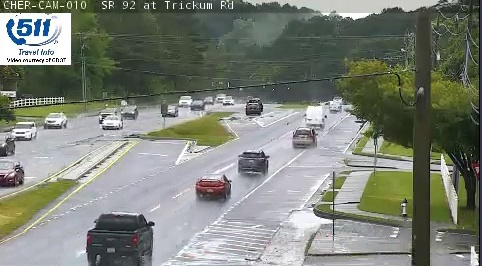car: (87, 213, 154, 260), (196, 175, 231, 197), (238, 150, 268, 173), (292, 129, 316, 146)
van: (305, 106, 323, 127)
